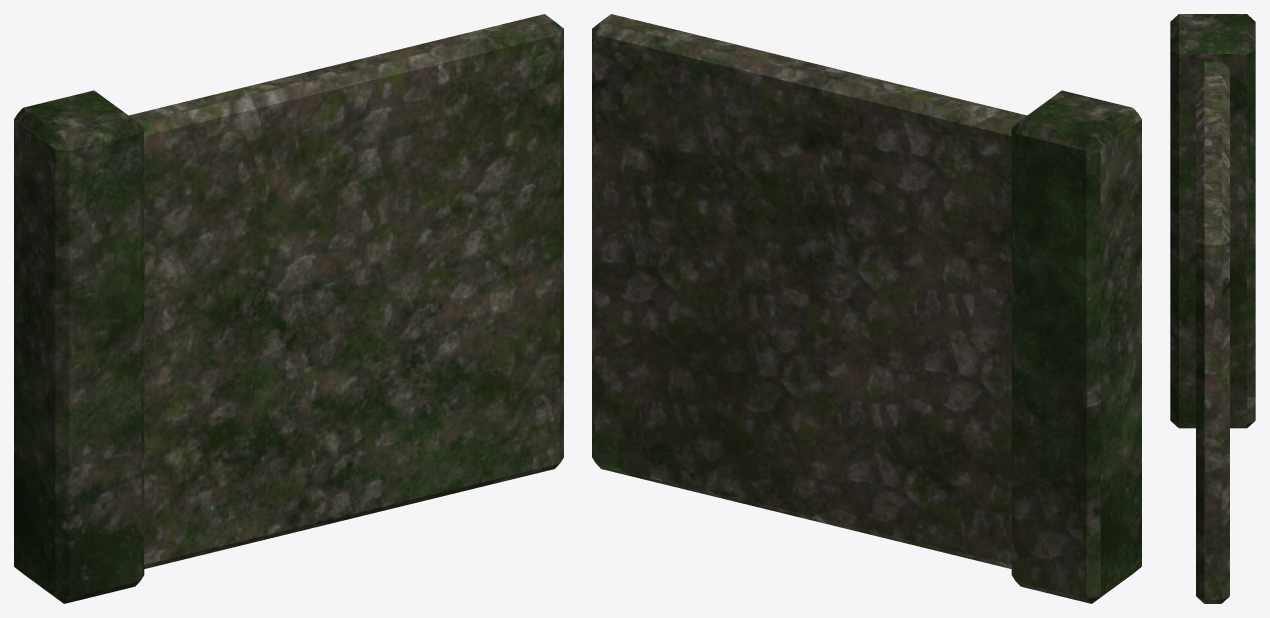
Rendered from MK_CampWall_WallWithPillar.fbx.
3 renders of one model, left to right at view 1: azimuth 30°, elevation 25°; view 2: azimuth 150°, elevation 25°; view 3: azimuth 270°, elevation 25°, orthographic. The views are drawn at different scales.
Visible parts, largest first — view 1: MK_CampWall_WallWithPillar; view 2: MK_CampWall_WallWithPillar; view 3: MK_CampWall_WallWithPillar.
Part boxes in pixels (x1,y1,x2,y2): MK_CampWall_WallWithPillar: (14, 14, 563, 603); MK_CampWall_WallWithPillar: (592, 14, 1141, 603); MK_CampWall_WallWithPillar: (1170, 14, 1255, 603).
Bounding box in the file's own units: 147 × 125 × 25.
Materials: 1 (1 with a texture image).
